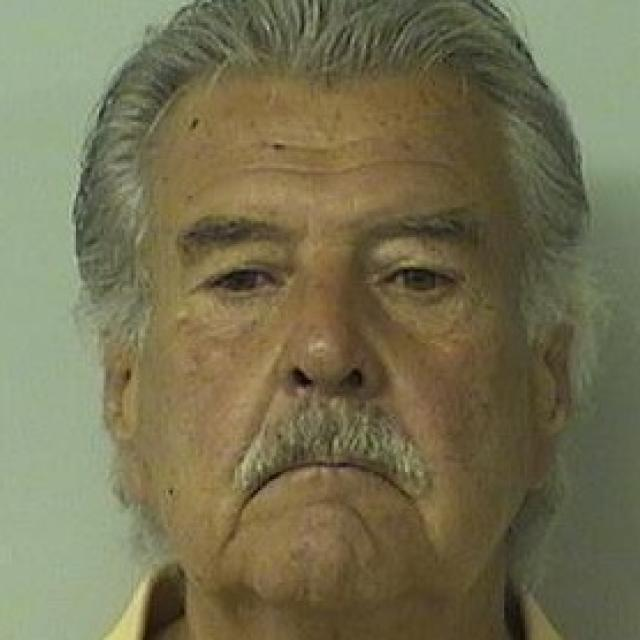Depress: (132, 76, 538, 625)
